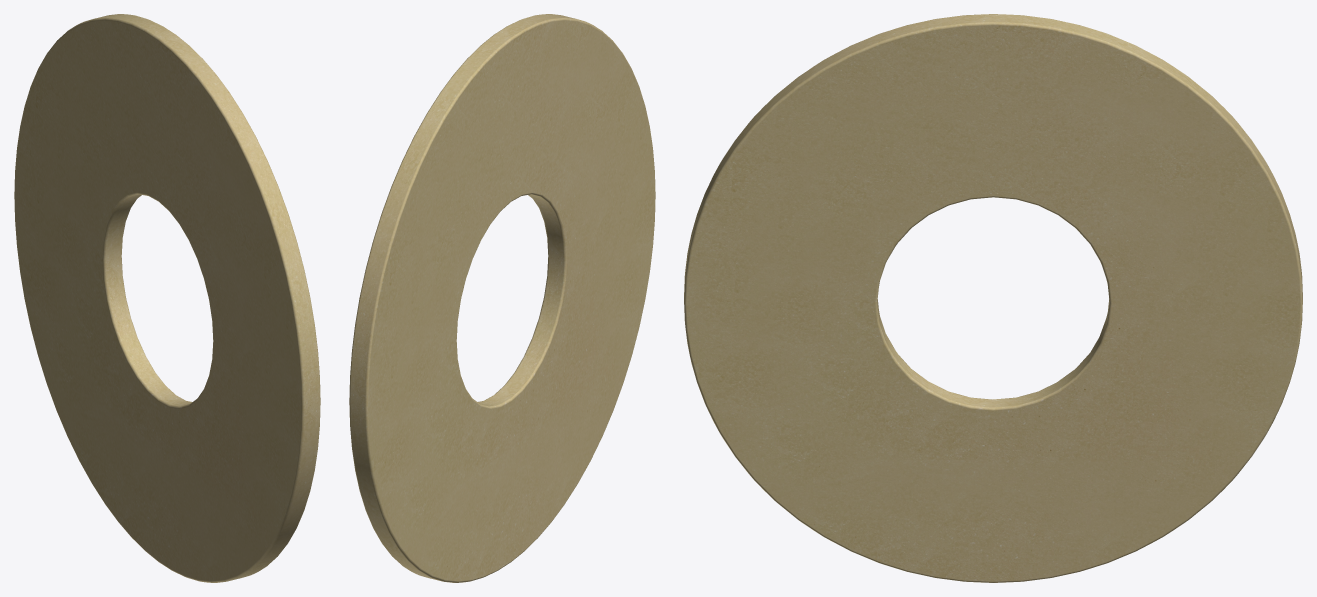
3 views of the same model, side by side, from view 1: azimuth 30°, elevation 25°; view 2: azimuth 150°, elevation 25°; view 3: azimuth 270°, elevation 25° (orthographic). The views are drawn at different scales.
Visible parts, largest first — view 1: object_1; view 2: object_1; view 3: object_1.
Boxes of the visible parts, left/top/right/bottom form: object_1: left=14, top=14, right=320, bottom=582; object_1: left=349, top=14, right=655, bottom=582; object_1: left=684, top=14, right=1302, bottom=582.
Size of the model in its own units: 0.18 by 4.8 by 4.8.
Materials: 1 (1 with a texture image).
